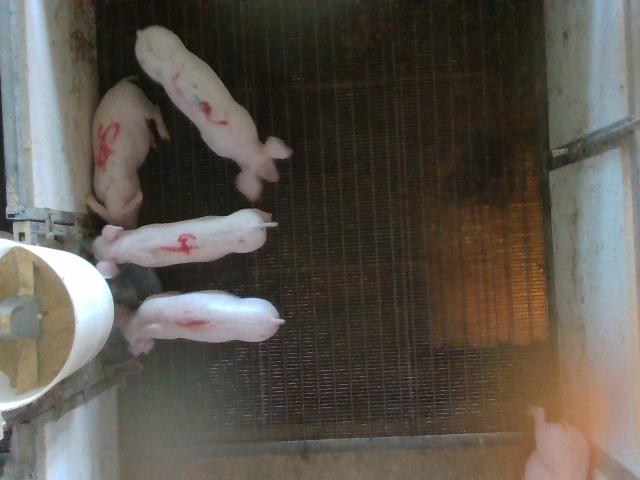pig-1: (114, 290, 285, 355)
pig-3: (135, 26, 292, 201)
pig-4: (91, 209, 278, 278), (82, 241, 89, 249)
pig-5: (86, 78, 170, 228)
